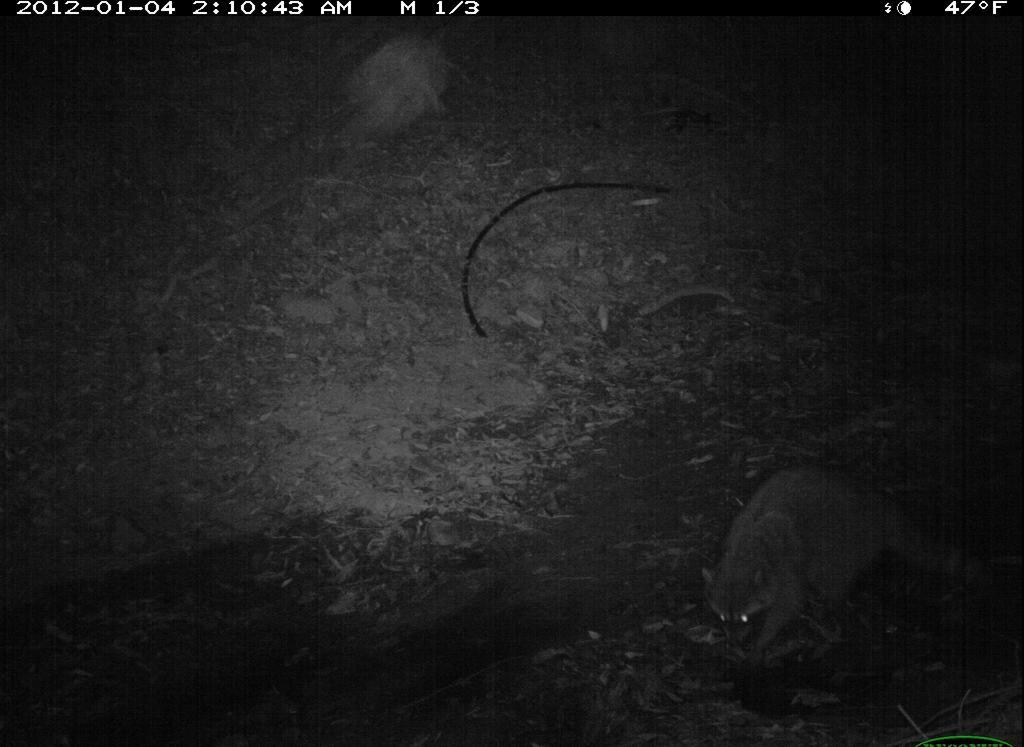raccoon: (689, 466, 959, 675)
